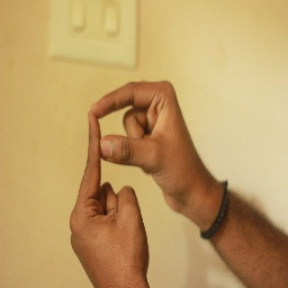P: (61, 72, 186, 234)
